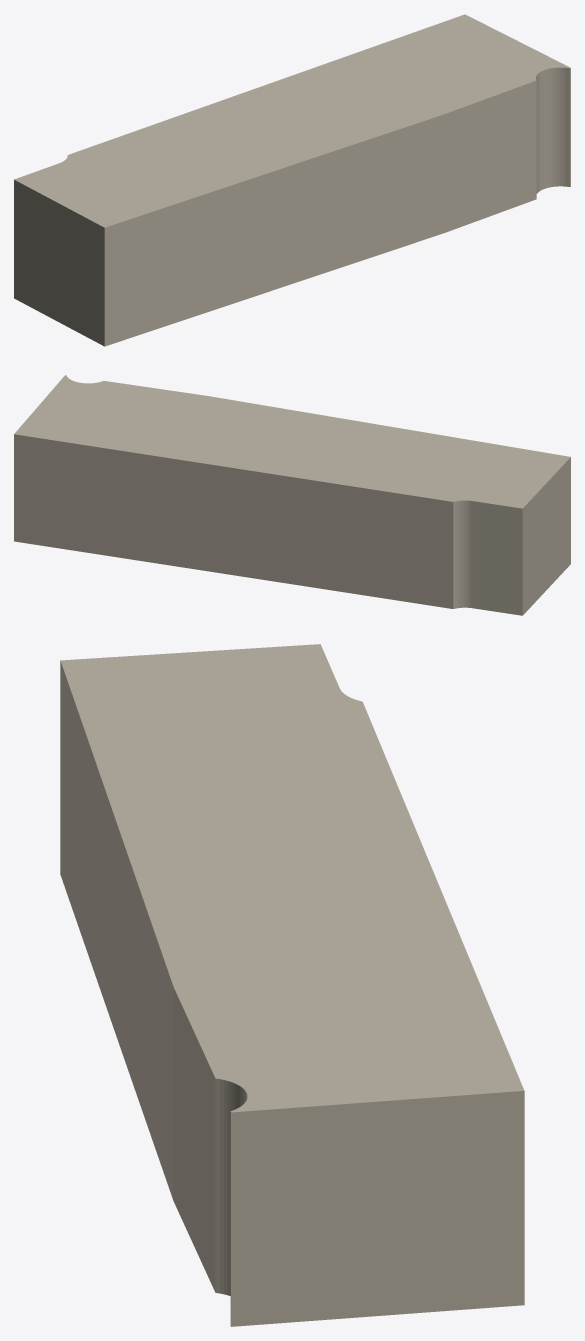
File: senglea_56_29_mid.glb
3 renders of one model, top to bottom at view 1: azimuth 30°, elevation 25°; view 2: azimuth 150°, elevation 25°; view 3: azimuth 270°, elevation 25°, orthographic. The views are drawn at different scales.
Visible parts, largest first — view 1: geometry_0; view 2: geometry_0; view 3: geometry_0.
Part boxes in pixels (bbox=[...]): geometry_0: bbox=[14, 14, 570, 346]; geometry_0: bbox=[14, 375, 570, 615]; geometry_0: bbox=[60, 644, 524, 1326].
Bounding box in the file's own units: 62.27 × 13.29 × 26.07.
